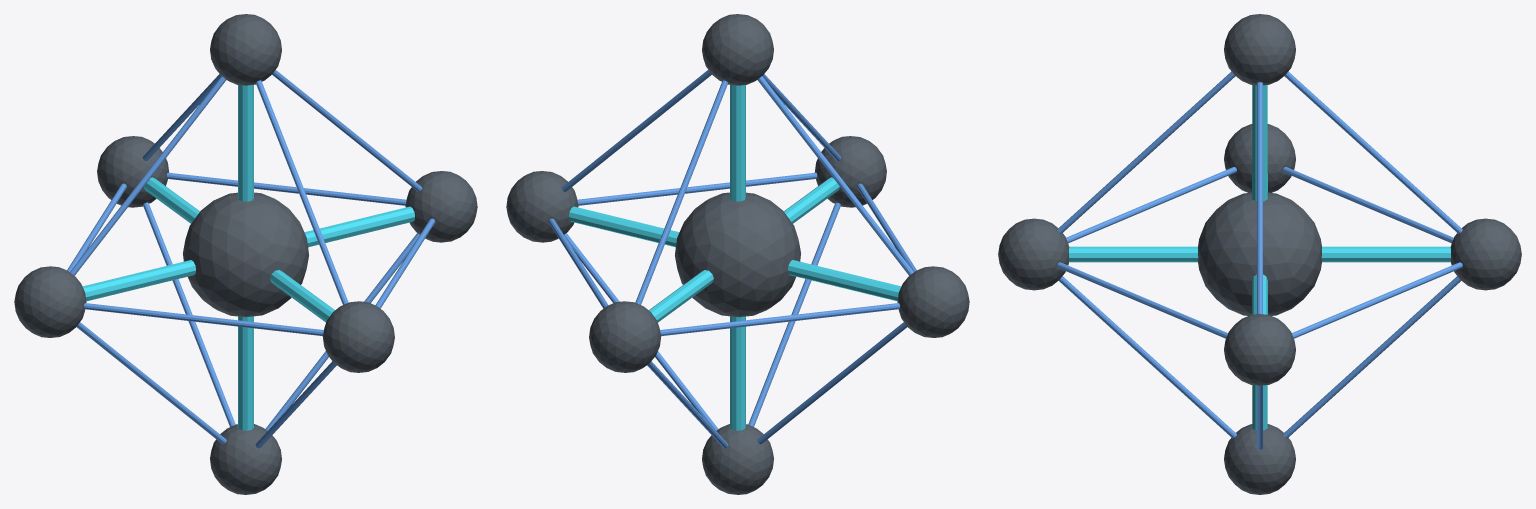
File: 03-nucleo-rede.glb
The picture shows the model from 3 angles, left to right: view 1: azimuth 30°, elevation 25°; view 2: azimuth 150°, elevation 25°; view 3: azimuth 270°, elevation 25°; orthographic projection.
Visible parts, largest first — view 1: part_000, part_009, part_003, part_005, part_007, part_001, part_011, part_006, part_004, part_008, part_002, part_017 (+13 smaller); view 2: part_000, part_011, part_003, part_005, part_007, part_001, part_009, part_006, part_004, part_008, part_002, part_017 (+13 smaller); view 3: part_000, part_001, part_005, part_009, part_011, part_007, part_003, part_010, part_012, part_023, part_024, part_021 (+7 smaller).
Part boxes in pixels (x1,y1,x2,y2): part_000: (183,192,308,317); part_009: (322,301,394,372); part_003: (14,266,86,337); part_005: (210,14,281,85); part_007: (210,424,281,494); part_001: (405,171,477,242); part_011: (97,136,169,207); part_006: (238,85,253,201); part_004: (82,260,195,301); part_008: (238,316,253,430); part_002: (304,206,414,247); part_017: (70,76,226,275); part_000: (675,192,800,317); part_011: (589,301,661,372); part_003: (897,266,969,337); part_005: (702,14,773,85); part_007: (702,424,773,494); part_001: (506,171,578,242); part_009: (814,136,886,207); part_006: (730,85,745,201); part_004: (788,260,901,301); part_008: (730,316,745,430); part_002: (569,206,679,247); part_017: (757,76,913,275); part_000: (1198,192,1321,315); part_001: (1224,314,1295,385); part_005: (1224,14,1295,85); part_009: (998,218,1069,290); part_011: (1450,218,1521,290); part_007: (1224,424,1295,494); part_003: (1224,124,1295,192); part_010: (1069,246,1198,262); part_012: (1321,246,1450,262); part_023: (1058,276,1236,438); part_024: (1283,276,1461,438); part_021: (1057,71,1235,233).
Bounding box in the file's own units: 2.32 × 2.32 × 2.32.
